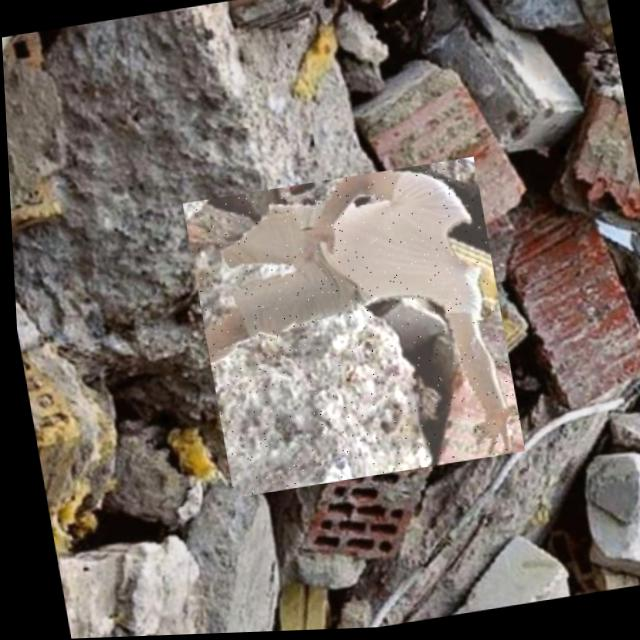Person in Rubble: (178, 159, 520, 501)
